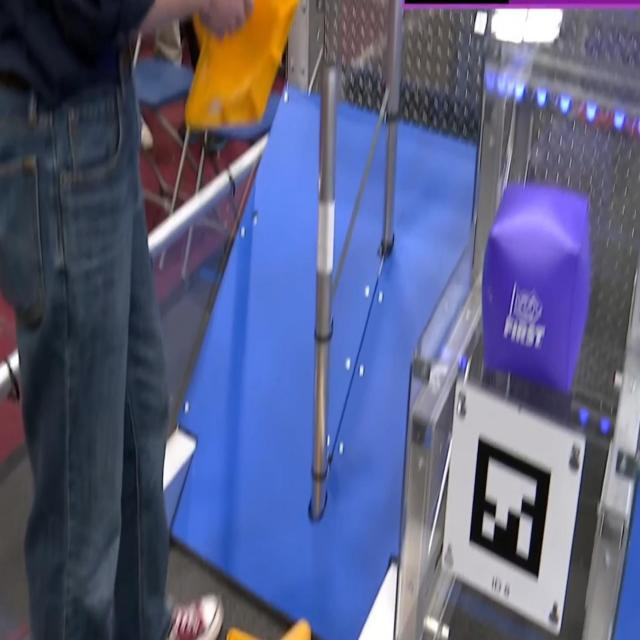frc_cone: (185, 0, 301, 135), (220, 613, 314, 640)
frc_cube: (481, 189, 588, 390)
